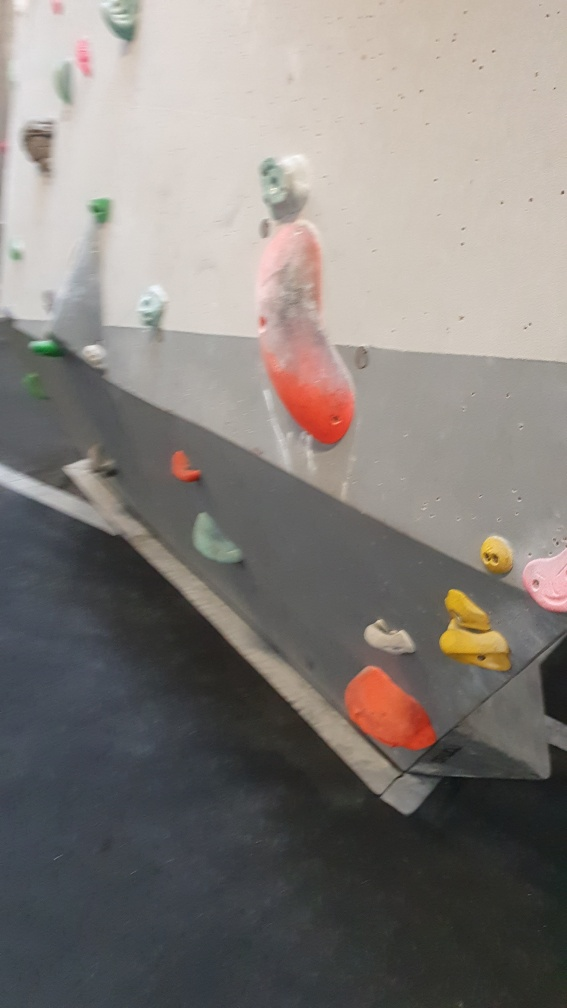Pinch: (248, 221, 358, 444)
